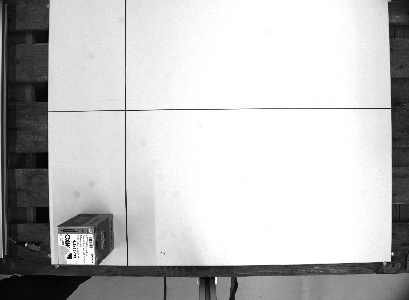b4: (51, 211, 115, 267)
